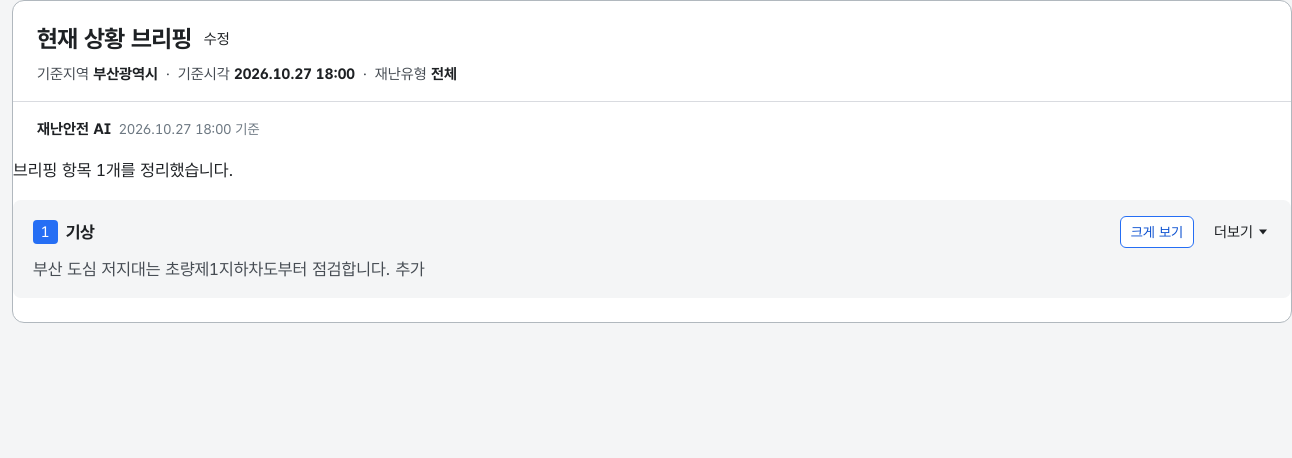
브리핑 항목 카드 — 첫 문단 한 줄 · 더보기 · 접기 › [더보기] → 답 글만(briefing-item-detail — 답 카드 전체가 아님, 미리보기 줄은 거둔다) · [접기] → 다시 한 줄
Click the button "더보기" at [1243, 232], box left=1214, top=221, right=1271, bottom=244
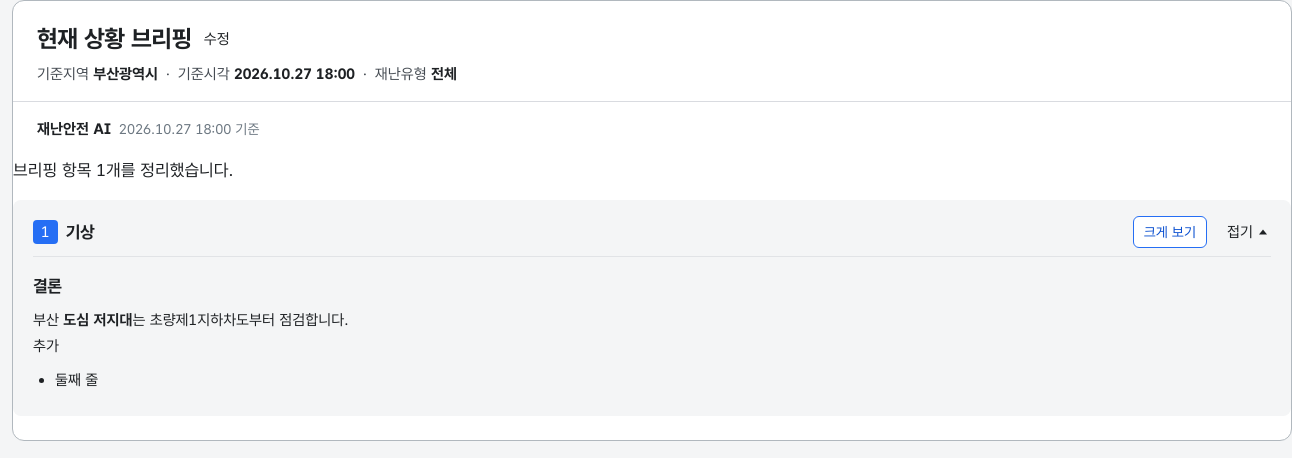
Check: the element with class "briefing-item-detail" shows "둘째 줄", box left=55, top=371, right=98, bottom=389
Check: the text with class "briefing-item-summary" is gone
Check: the button "접기" is expanded
Click the button "접기" at [1249, 232], box left=1227, top=221, right=1271, bottom=244
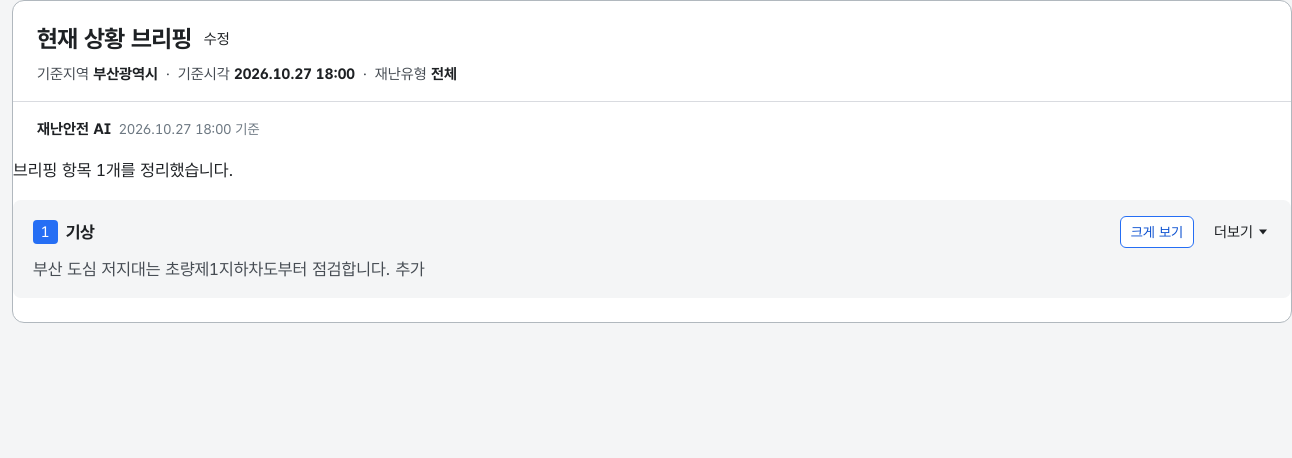
Check: the element with class "briefing-item-detail" is gone
Check: the text "부산 도심 저지대는 초량제1지하차도부터 점검합니다. 추가" is shown, box left=33, top=259, right=425, bottom=279
